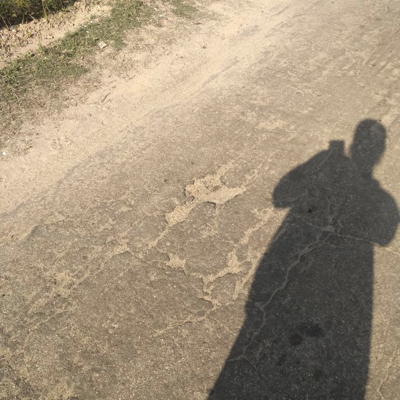pothole: (163, 165, 247, 228), (165, 252, 189, 273)
